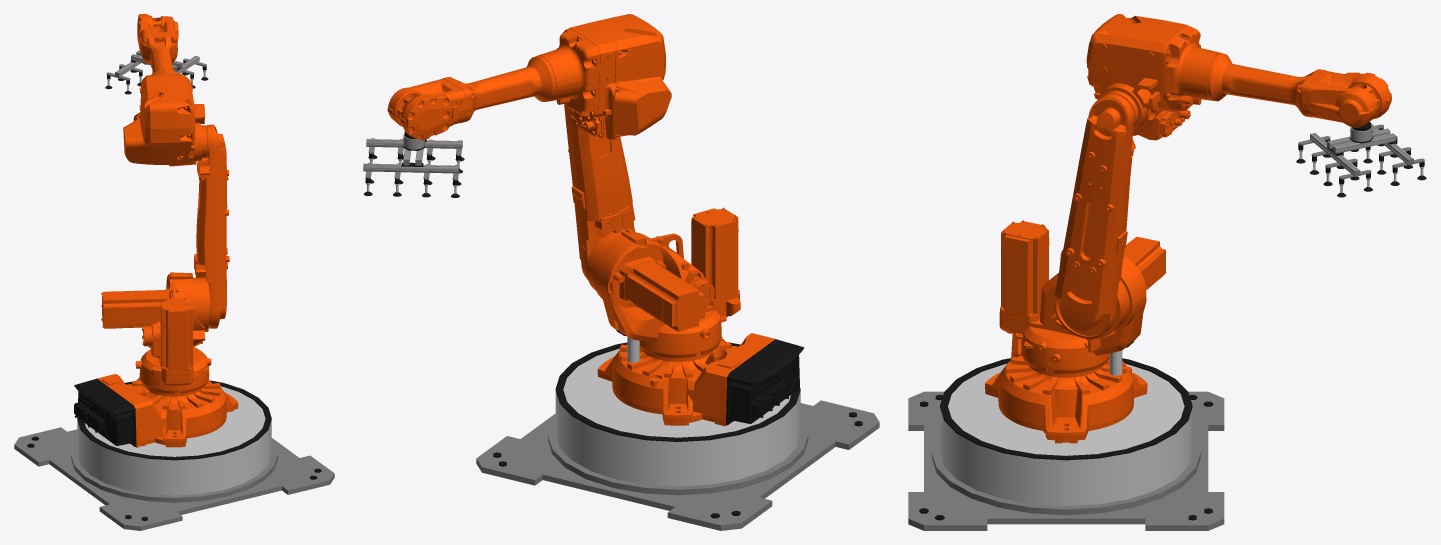
The model's file is loader.fbx.
The picture shows the model from 3 angles, left to right: view 1: azimuth 30°, elevation 25°; view 2: azimuth 150°, elevation 25°; view 3: azimuth 270°, elevation 25°; orthographic projection. The views are drawn at different scales.
Visible parts, largest first — view 1: geo_aluminium_3, geo_steel_1, geo_orange_cast_metal_4, geo_orange_cast_metal_2.001, geo_orange_cast_metal_3, geo_orange_cast_metal_2, geo_black_2, geo_orange_cast_metal_2.002, geo_black_4, geo_Aluminum_4; view 2: geo_orange_cast_metal_4, geo_aluminium_3, geo_steel_1, geo_orange_cast_metal_2.001, geo_orange_cast_metal_3, geo_orange_cast_metal_2.002, geo_orange_cast_metal_2, geo_black_2, geo_black_4, geo_Aluminum_4, geo_black_3.001; view 3: geo_aluminium_3, geo_steel_1, geo_orange_cast_metal_2, geo_orange_cast_metal_4, geo_orange_cast_metal_2.001, geo_orange_cast_metal_3, geo_orange_cast_metal_2.002, geo_black_4, geo_Aluminum_4, geo_black_3.001, geo_steel_1.001.
Part boxes in pixels (x1,y1,x2,y2): geo_aluminium_3: [77, 386, 271, 495]; geo_steel_1: [14, 427, 334, 530]; geo_orange_cast_metal_4: [101, 272, 211, 394]; geo_orange_cast_metal_2.001: [123, 70, 207, 166]; geo_orange_cast_metal_3: [97, 374, 238, 447]; geo_orange_cast_metal_2: [194, 124, 229, 328]; geo_black_2: [74, 378, 136, 446]; geo_orange_cast_metal_2.002: [137, 14, 178, 74]; geo_black_4: [27, 380, 321, 520]; geo_Aluminum_4: [116, 50, 199, 76]; geo_orange_cast_metal_4: [586, 207, 740, 357]; geo_aluminium_3: [555, 348, 800, 486]; geo_steel_1: [476, 400, 879, 530]; geo_orange_cast_metal_2.001: [537, 14, 671, 139]; geo_orange_cast_metal_3: [597, 333, 775, 426]; geo_orange_cast_metal_2.002: [387, 55, 555, 139]; geo_orange_cast_metal_2: [564, 103, 635, 279]; geo_black_2: [726, 339, 804, 425]; geo_black_4: [493, 342, 862, 518]; geo_Aluminum_4: [364, 133, 461, 173]; geo_black_3.001: [363, 139, 464, 197]; geo_aluminium_3: [940, 363, 1192, 506]; geo_steel_1: [908, 391, 1224, 530]; geo_orange_cast_metal_2: [1054, 93, 1135, 338]; geo_orange_cast_metal_4: [999, 220, 1165, 373]; geo_orange_cast_metal_2.001: [1086, 14, 1220, 140]; geo_orange_cast_metal_3: [985, 334, 1147, 443]; geo_orange_cast_metal_2.002: [1207, 53, 1391, 127]; geo_black_4: [919, 358, 1213, 520]; geo_Aluminum_4: [1310, 123, 1412, 176]; geo_black_3.001: [1296, 128, 1426, 197]; geo_steel_1.001: [1298, 124, 1424, 179].
Size of the model in its own units: 116 by 158 by 164.
